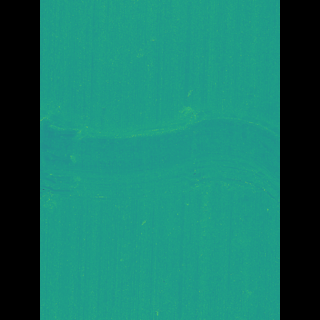Loch: (68, 92, 250, 218)
